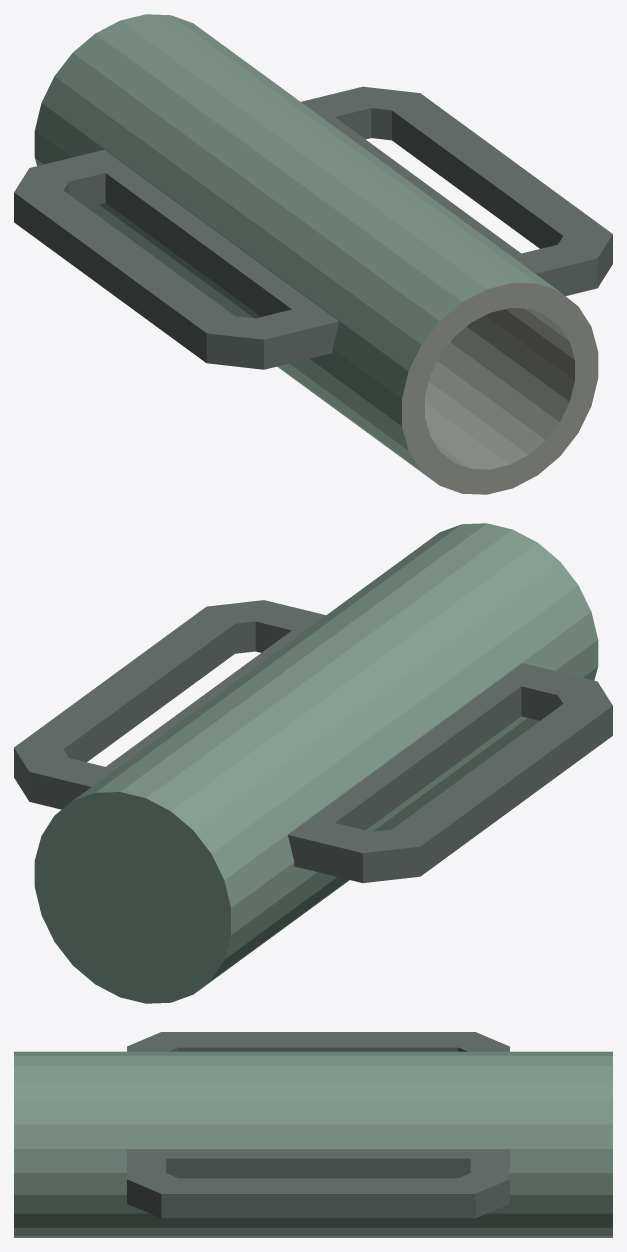
The picture shows the model from 3 angles, top to bottom: view 1: azimuth 30°, elevation 25°; view 2: azimuth 150°, elevation 25°; view 3: azimuth 270°, elevation 25°; orthographic projection. The views are drawn at different scales.
Visible parts, largest first — view 1: WholeThickSleeveAndIntegralBlindEnd, WholeElongatedRoundCornerSideHandle0, WholeElongatedRoundCornerSideHandle1; view 2: WholeThickSleeveAndIntegralBlindEnd, WholeElongatedRoundCornerSideHandle0, WholeElongatedRoundCornerSideHandle1; view 3: WholeThickSleeveAndIntegralBlindEnd, WholeElongatedRoundCornerSideHandle1, WholeElongatedRoundCornerSideHandle0.
Boxes of the visible parts, x1,y1,x2,y2 form: WholeThickSleeveAndIntegralBlindEnd: (34,14,598,494); WholeElongatedRoundCornerSideHandle0: (14,149,338,369); WholeElongatedRoundCornerSideHandle1: (301,86,612,295); WholeThickSleeveAndIntegralBlindEnd: (34,523,598,1003); WholeElongatedRoundCornerSideHandle0: (288,663,612,882); WholeElongatedRoundCornerSideHandle1: (14,600,325,809); WholeThickSleeveAndIntegralBlindEnd: (14,1051,612,1237); WholeElongatedRoundCornerSideHandle1: (127,1149,509,1218); WholeElongatedRoundCornerSideHandle0: (127,1032,509,1051).
Bounding box in the file's own units: 0.78 × 0.3767 × 1.22.
